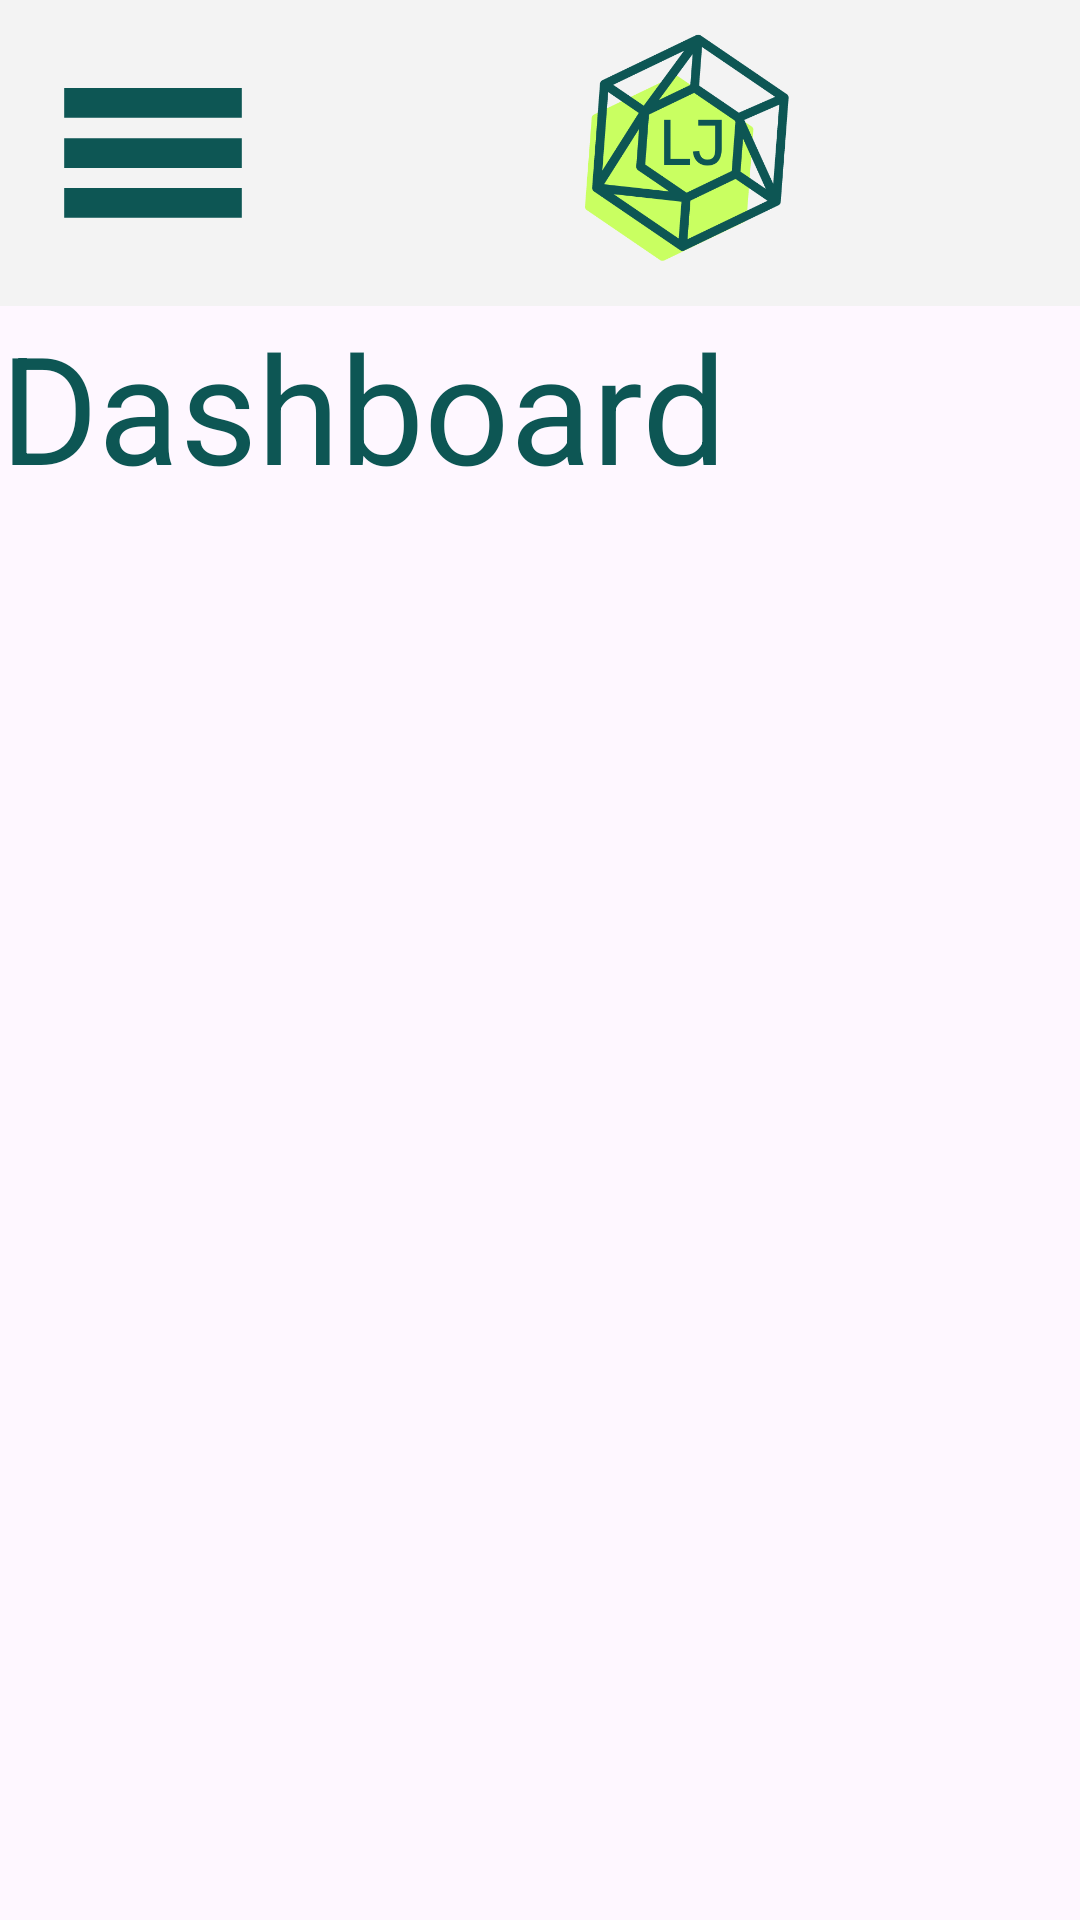

Point at icon controls on the screen. Image size 1080 × 1920, points as (x,y).
hamburgicon: (153,153)
